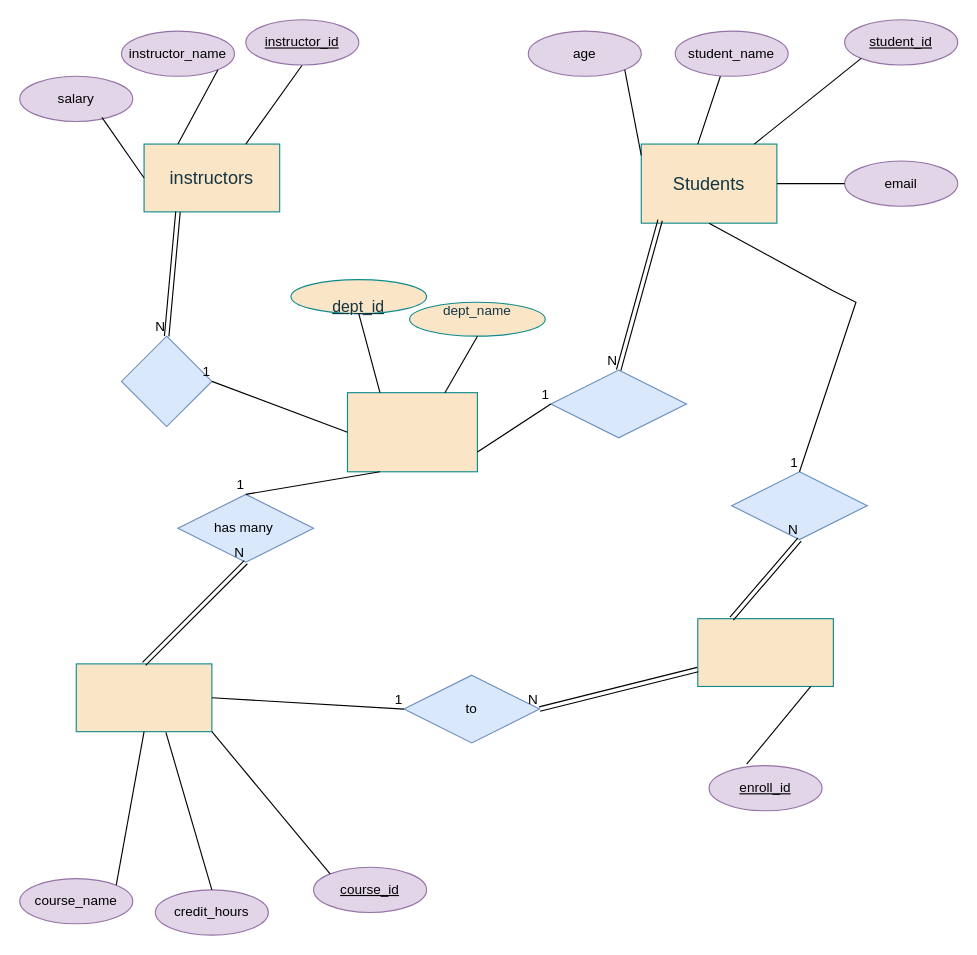
The diagram is 977 pixels wide and 955 high, and some of its shapes have lost their labels. The shapes that lost their labels are listed below. From the top down, each one's centre as x and y in pixels, then its label:
pixel 166 381: has
pixel 618 403: Exist
pixel 411 432: Department
pixel 799 505: ُEnrolls
pixel 765 652: Enrollments
pixel 143 697: Courses
